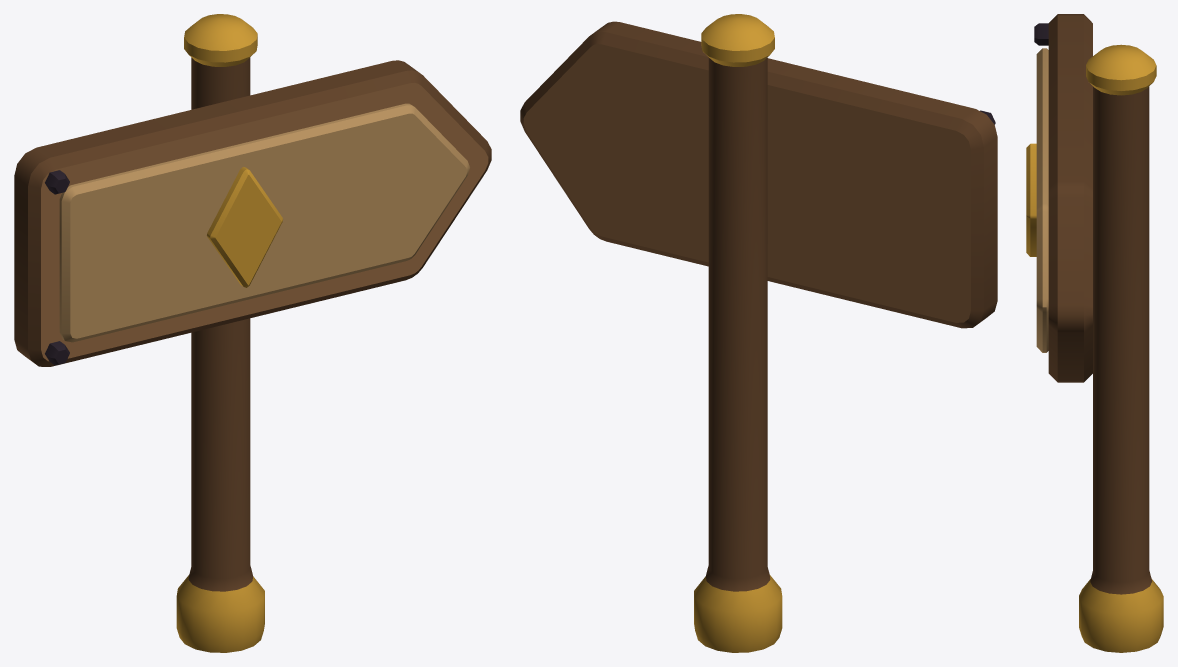
Rendered from Sign_31.glb.
3 views of the same model, side by side, from view 1: azimuth 30°, elevation 25°; view 2: azimuth 150°, elevation 25°; view 3: azimuth 270°, elevation 25° (orthographic). The views are drawn at different scales.
Visible parts, largest first — view 1: Sign_31; view 2: Sign_31; view 3: Sign_31.
Boxes of the visible parts, x1,y1,x2,y2 form: Sign_31: [14, 14, 491, 652]; Sign_31: [520, 14, 997, 652]; Sign_31: [1026, 14, 1163, 652].
Bounding box in the file's own units: 2.53 × 3.2 × 0.68.
